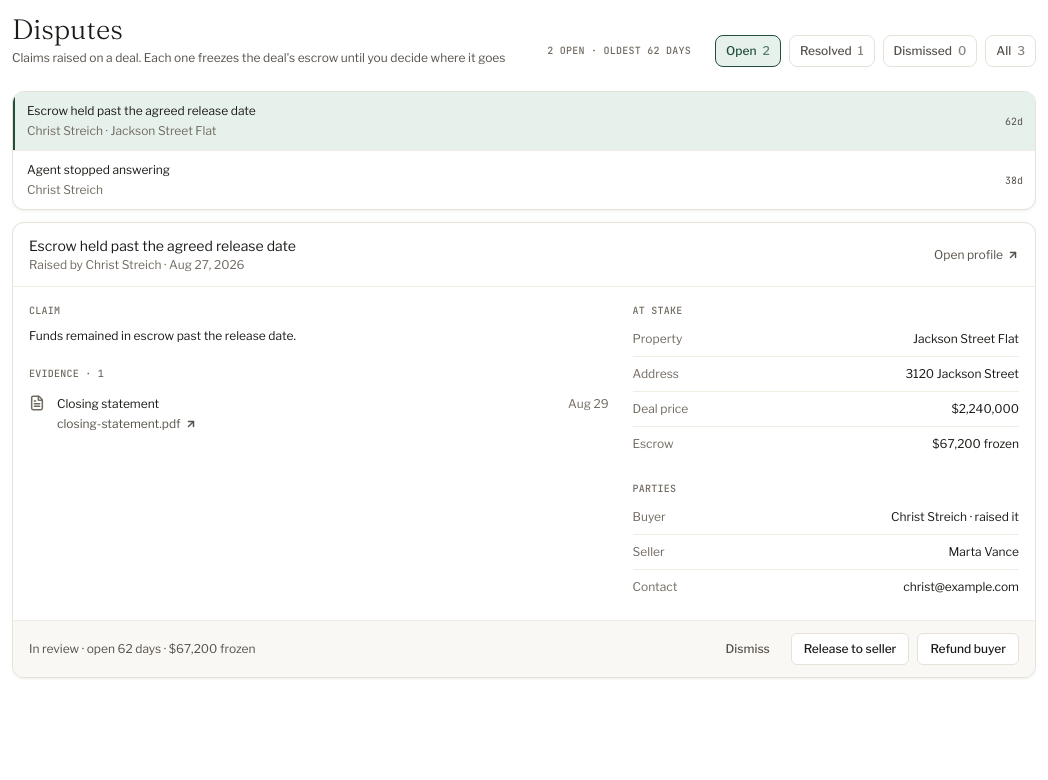
Scenario: AdminDisputesConsole · reading the queue › says the queue is clear when the filter matches no dispute
The image size is (1048, 780).
Click the button "Dismissed 0": click(930, 51) x1=883 y1=35 x2=977 y2=67
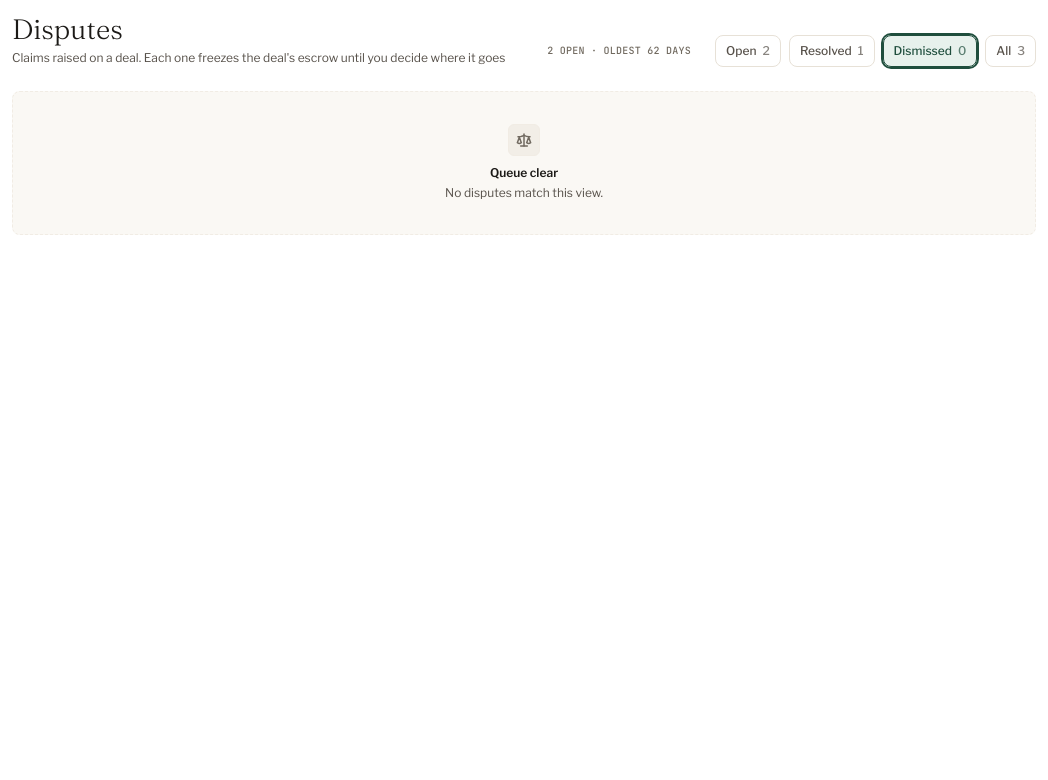
Result: the text "Queue clear" is shown at x1=490 y1=165 x2=558 y2=180
